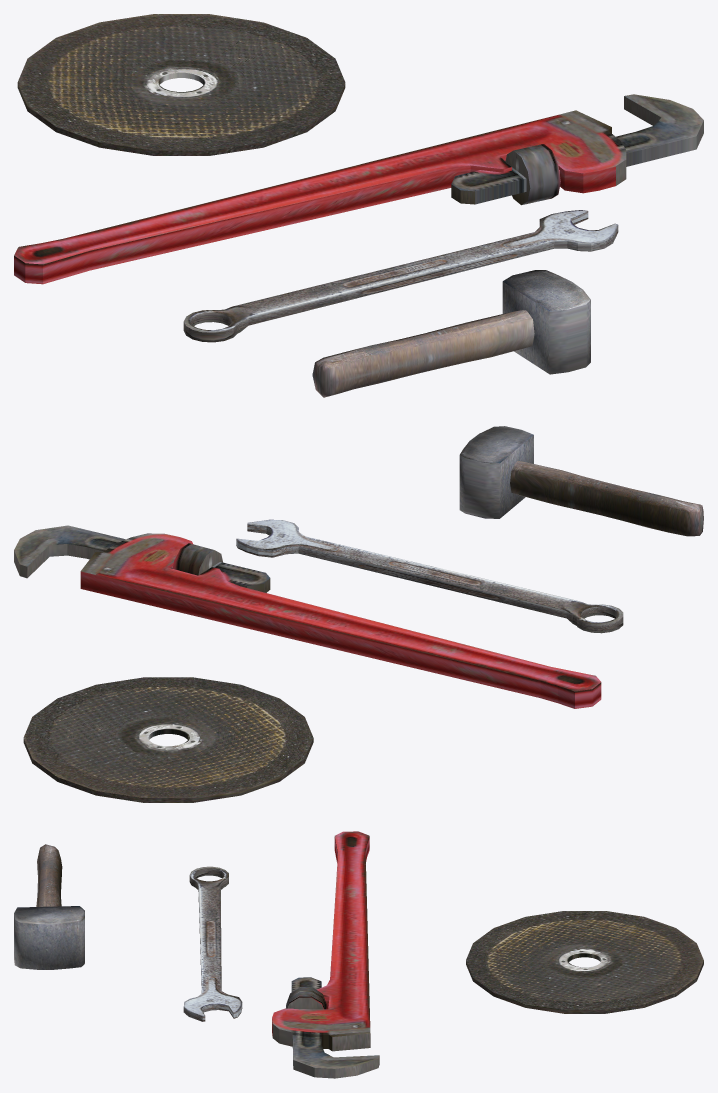
3 renders of one model, top to bottom at view 1: azimuth 30°, elevation 25°; view 2: azimuth 150°, elevation 25°; view 3: azimuth 270°, elevation 25°, orthographic. The views are drawn at different scales.
Parts seen in each view (by area): view 1: Disc, Povian, Hammer, Spanner; view 2: Disc, Povian, Hammer, Spanner; view 3: Disc, Povian, Hammer, Spanner.
Part boxes in pixels (left/top/right/bottom): Disc: left=17, top=14, right=345, bottom=155; Povian: left=14, top=94, right=703, bottom=284; Hammer: left=312, top=270, right=590, bottom=397; Spanner: left=183, top=210, right=618, bottom=342; Disc: left=23, top=677, right=313, bottom=802; Povian: left=14, top=525, right=601, bottom=708; Hammer: left=459, top=426, right=703, bottom=536; Spanner: left=236, top=519, right=623, bottom=633; Disc: left=466, top=911, right=703, bottom=1013; Povian: left=272, top=831, right=379, bottom=1078; Hammer: left=14, top=844, right=84, bottom=969; Spanner: left=183, top=866, right=242, bottom=1021.
Bounding box in the file's own units: 1 × 0.1109 × 1.25.
Materials: 4 (4 with a texture image).
